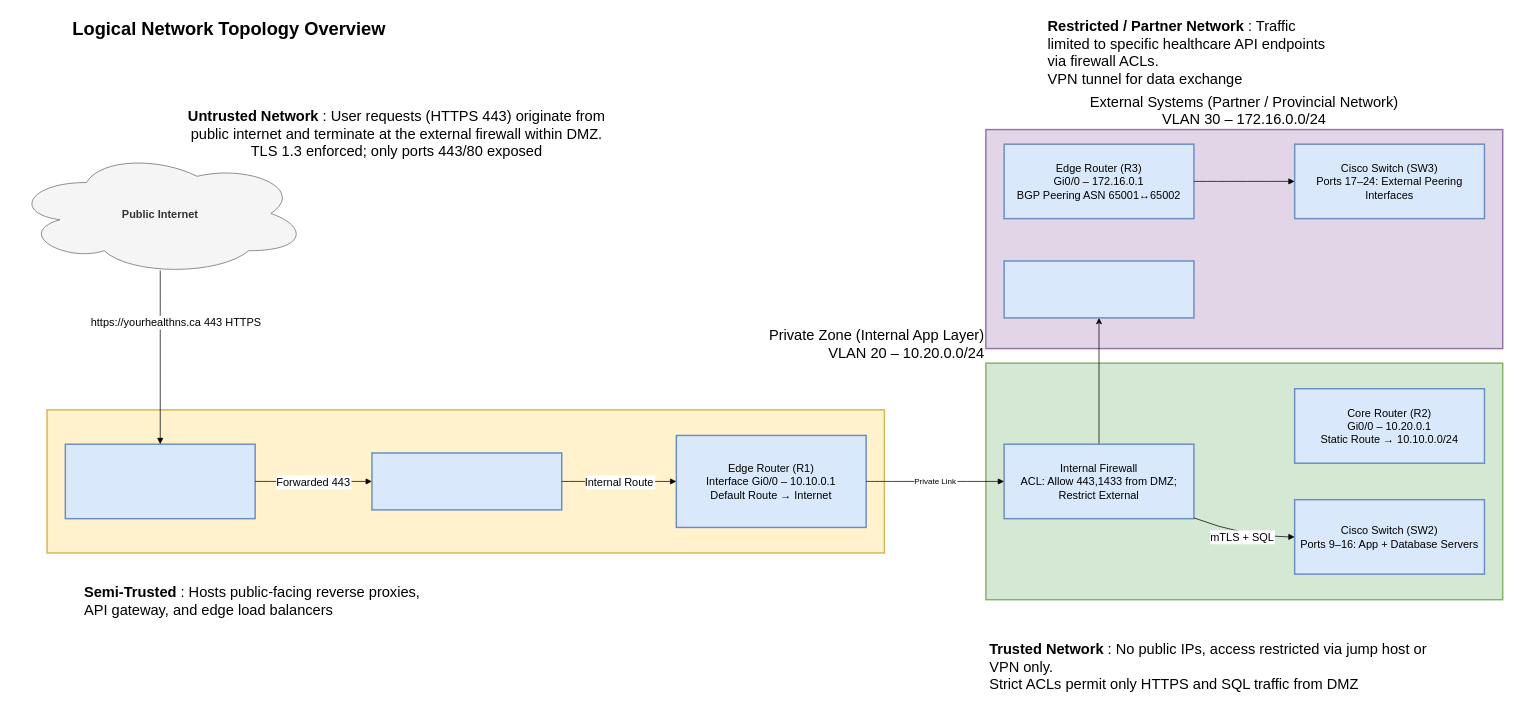
Image size: 1516x704. Some labels were removed from this diagram. The box of each missing label's shape, as (x1, y1, x2, y2) in pixels:
Cisco Switch (SW1) Ports 1–8: Web / API Tier: (371, 452, 562, 510)
DMZ Zone (Public-Facing) VLAN 10 – 10.10.0.0/24: (46, 409, 885, 553)
FortiGate Firewall ACL: Allow 443 from Internet, Deny All Else: (64, 443, 256, 519)
Partner Firewall ACL: IPSec VPN Only: (1003, 260, 1194, 318)
